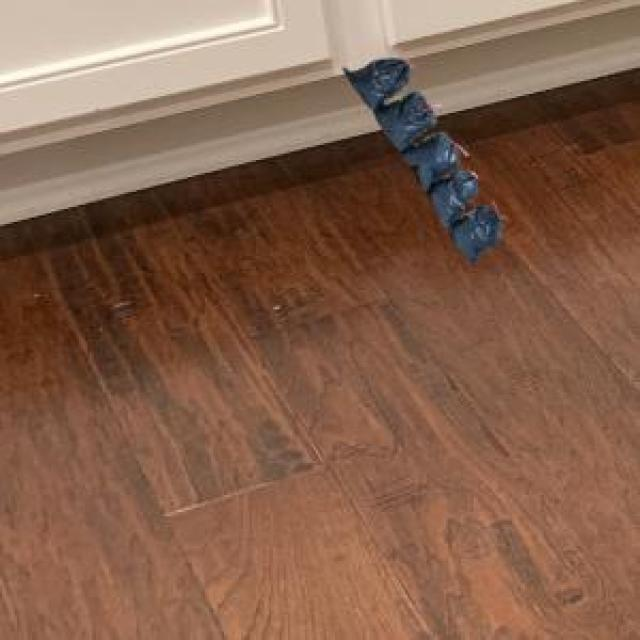Trashbag: (344, 59, 408, 102), (405, 134, 459, 184), (381, 97, 432, 141), (430, 173, 479, 218), (450, 212, 500, 255)
